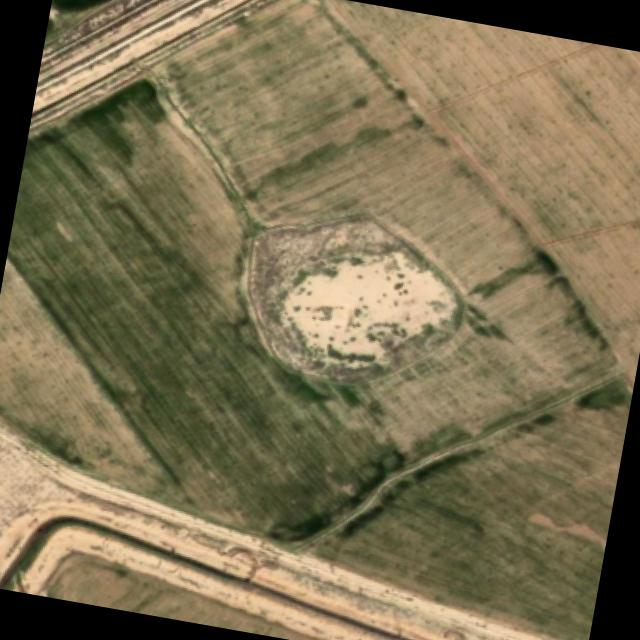ruins: (5, 211, 224, 436), (450, 73, 640, 243), (240, 22, 397, 159), (538, 198, 640, 343), (521, 507, 607, 556)
